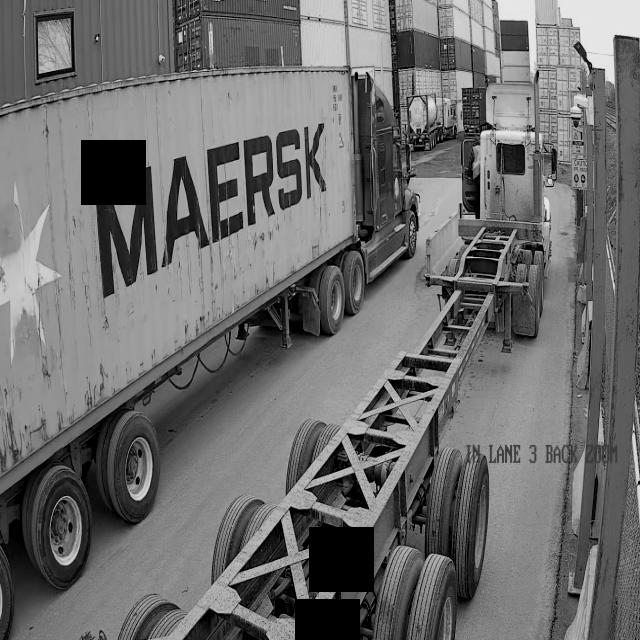container_company_logo: (88, 109, 330, 311)
driver: (468, 144, 481, 217)
truck_with_container: (0, 67, 420, 640)
truck_without_container: (288, 71, 557, 640)
